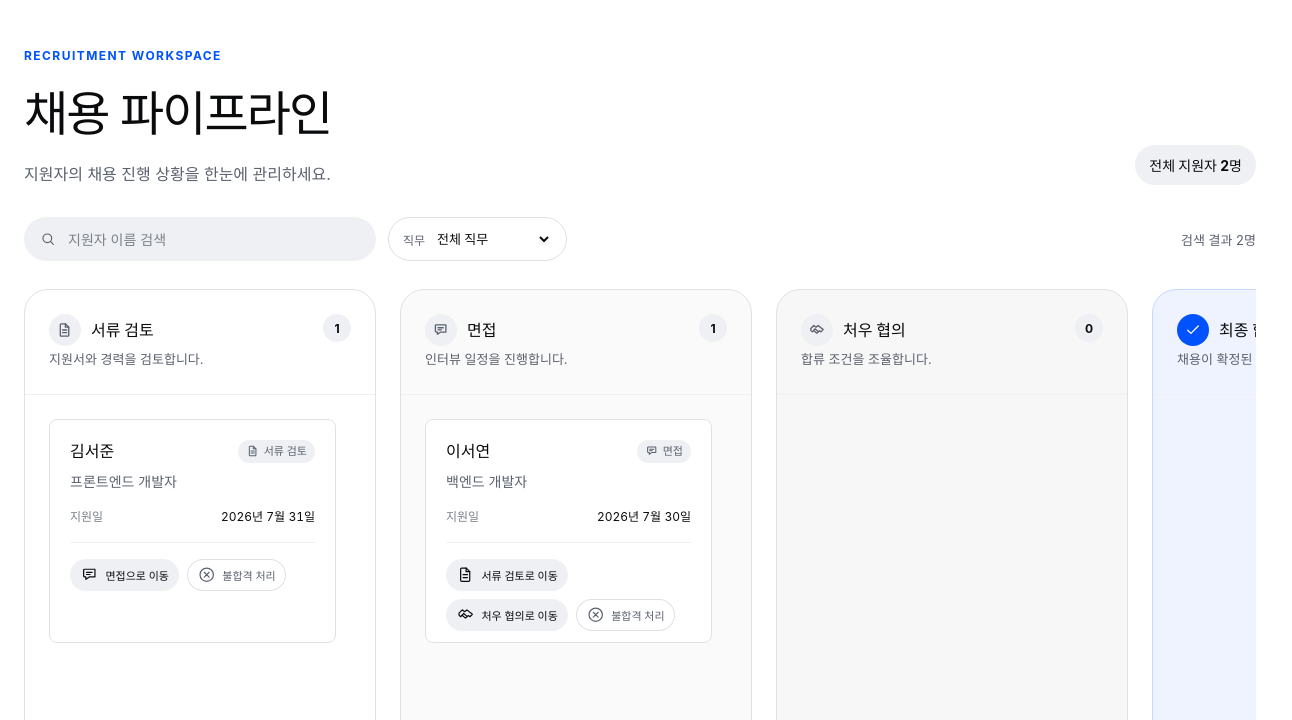
App › filters applicants by name and position
Expected: the heading "김서준" is shown, [70,440,114,462]
In the search field labelled "지원자 이름 검색": (213, 239) [66,230,360,248], type "김서준"
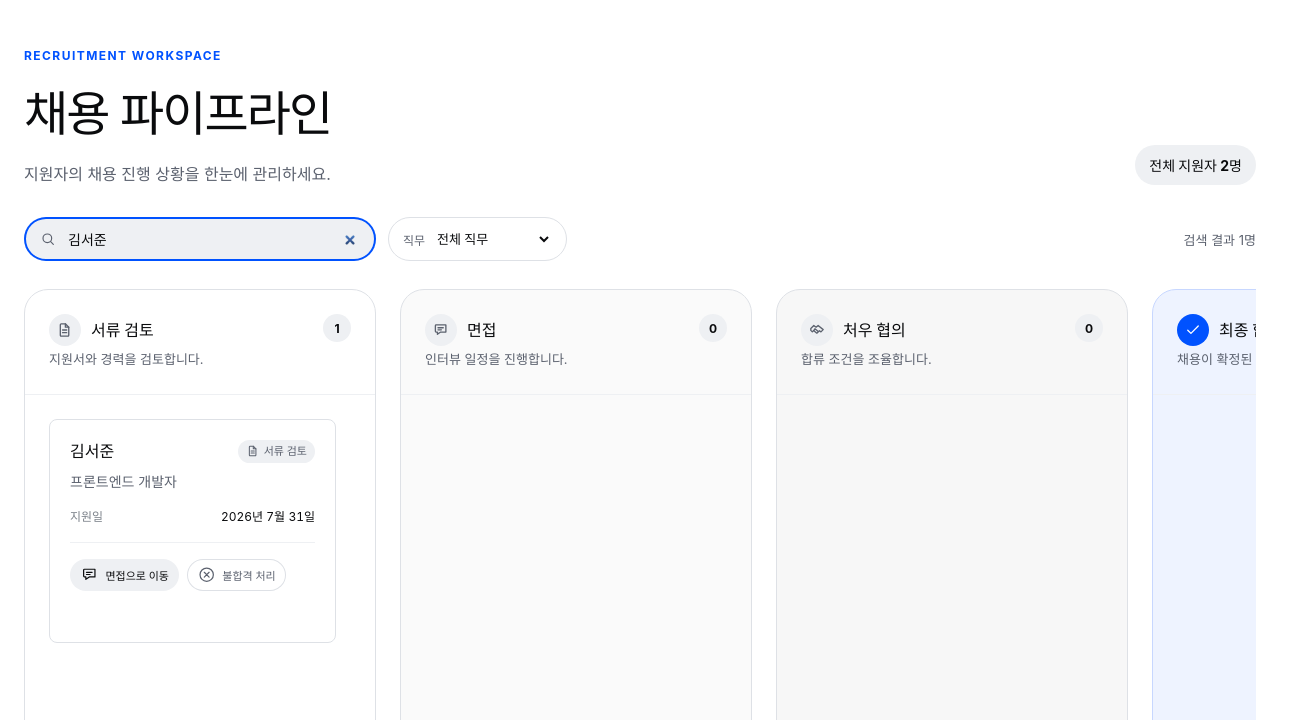
Expected: the heading "김서준" is shown, [70,440,114,462]
Result: the heading "이서연" is gone
Result: the text "검색 결과 1명" is shown at [1184,230,1256,248]
Select "백엔드 개발자" in the dropdown labelled "직무": (493, 239) [433,230,552,248]
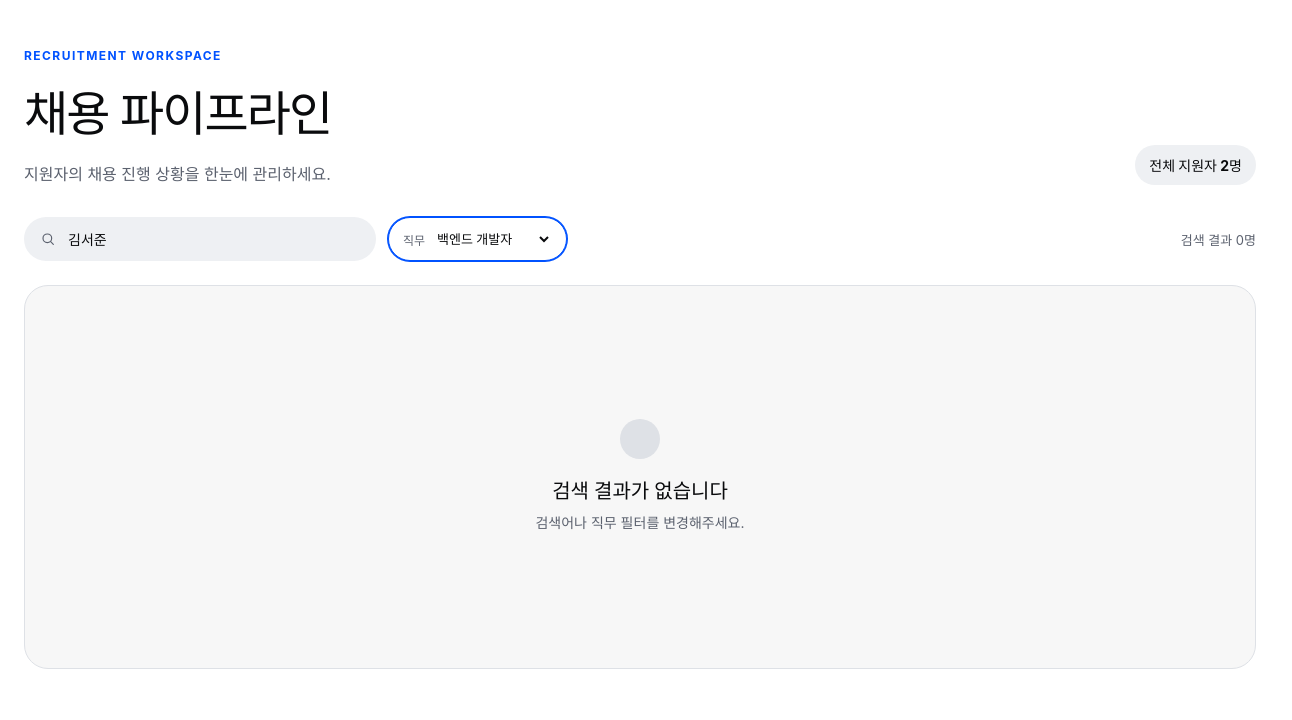
Result: the text "검색 결과 0명" is shown at [1181,230,1256,248]
Result: the heading "검색 결과가 없습니다" is shown at [552,475,728,504]
